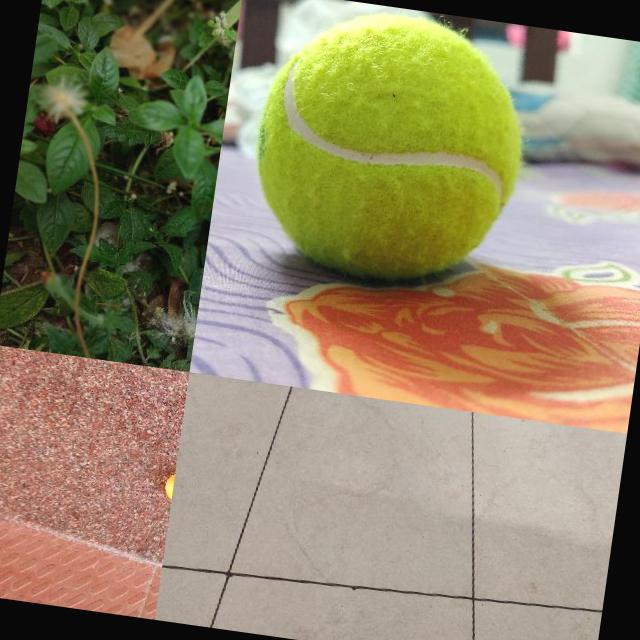Tennis Ball: (240, 0, 540, 295)
